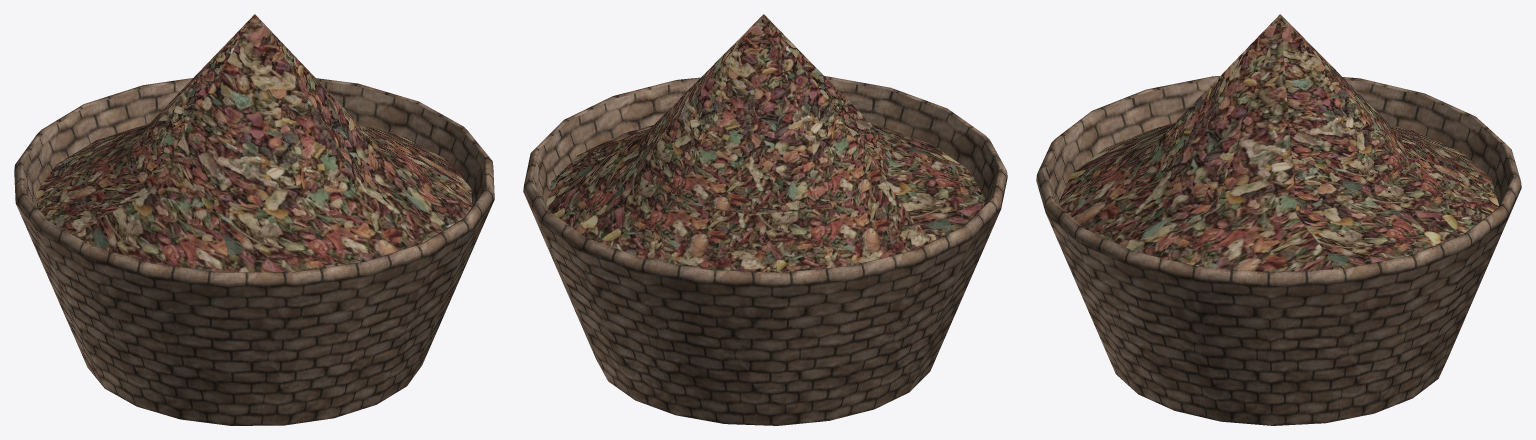
File: Wicker_Basket_02_06.glb
3 renders of one model, left to right at view 1: azimuth 30°, elevation 25°; view 2: azimuth 150°, elevation 25°; view 3: azimuth 270°, elevation 25°, orthographic.
Visible parts, largest first — view 1: Wicker_Basket_02_06; view 2: Wicker_Basket_02_06; view 3: Wicker_Basket_02_06.
Part boxes in pixels (x1=…): Wicker_Basket_02_06: x1=14, y1=14, x2=494, y2=425; Wicker_Basket_02_06: x1=523, y1=14, x2=1007, y2=425; Wicker_Basket_02_06: x1=1036, y1=14, x2=1521, y2=425.
Bounding box in the file's own units: 0.2901 × 0.2247 × 0.2901.
2 materials, 2 textured.
